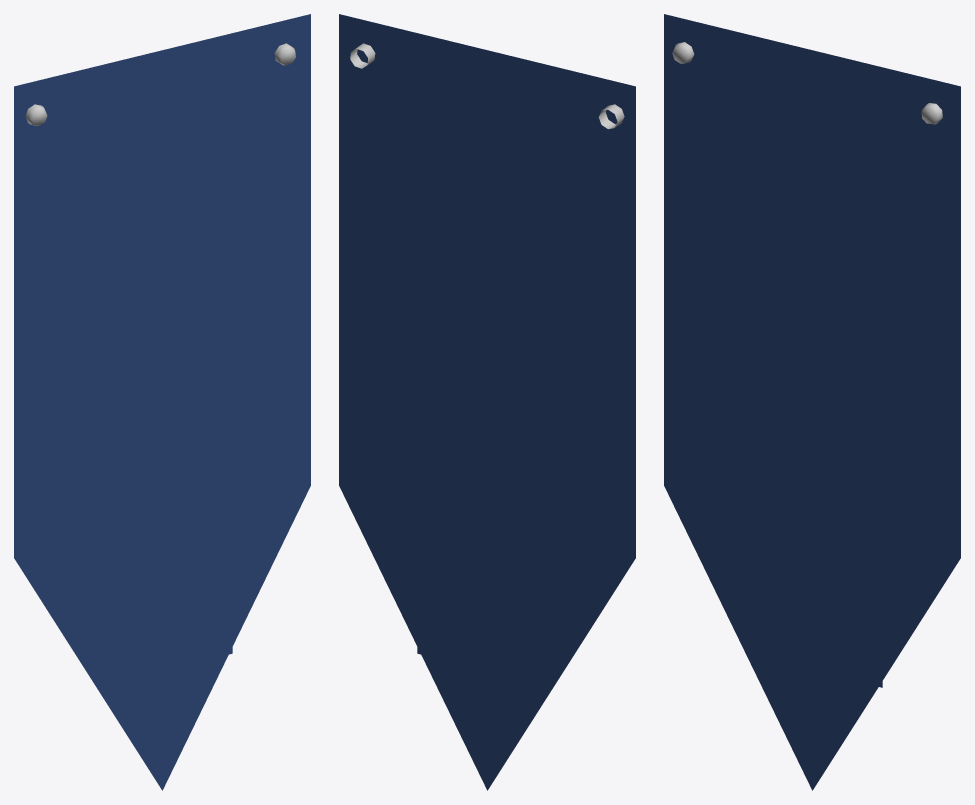
File: Banner_2_Cloth.gltf
3 renders of one model, left to right at view 1: azimuth 30°, elevation 25°; view 2: azimuth 150°, elevation 25°; view 3: azimuth 330°, elevation 25°, orthographic.
Parts seen in each view (by area): view 1: Banner_2_Cloth; view 2: Banner_2_Cloth; view 3: Banner_2_Cloth.
Part boxes in pixels (left/top/right/bottom): Banner_2_Cloth: left=14, top=14, right=310, bottom=790; Banner_2_Cloth: left=339, top=14, right=635, bottom=790; Banner_2_Cloth: left=664, top=14, right=960, bottom=790.
Size of the model in its own units: 0.8102 by 1.93 by 0.0568.
